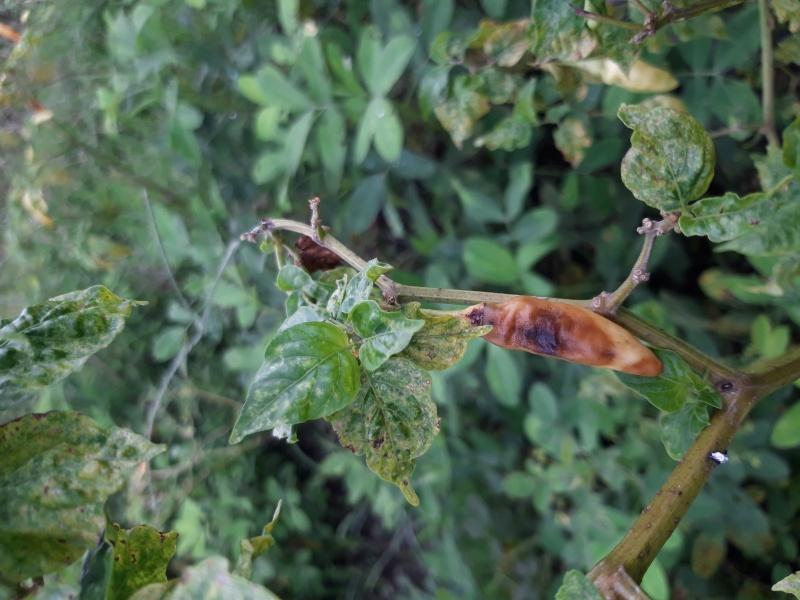antraknosa: (480, 294, 664, 377)
